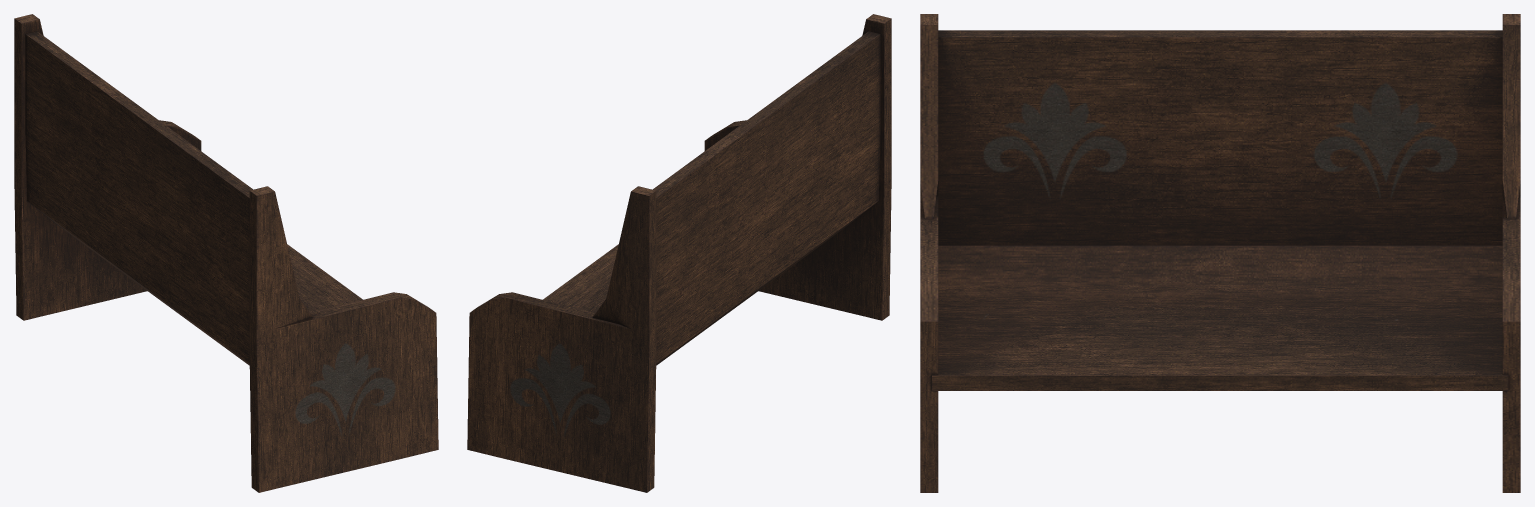
File: churchbench.gltf
3 views of the same model, side by side, from view 1: azimuth 30°, elevation 25°; view 2: azimuth 150°, elevation 25°; view 3: azimuth 270°, elevation 25° (orthographic). The views are drawn at different scales.
Visible parts, largest first — view 1: StaticMesh; view 2: StaticMesh; view 3: StaticMesh.
Boxes of the visible parts, x1,y1,x2,y2 form: StaticMesh: [14, 14, 438, 492]; StaticMesh: [467, 14, 891, 492]; StaticMesh: [920, 14, 1520, 492].
Bounding box in the file's own units: 35.84 × 56.13 × 82.72.
Materials: 1 (1 with a texture image).
